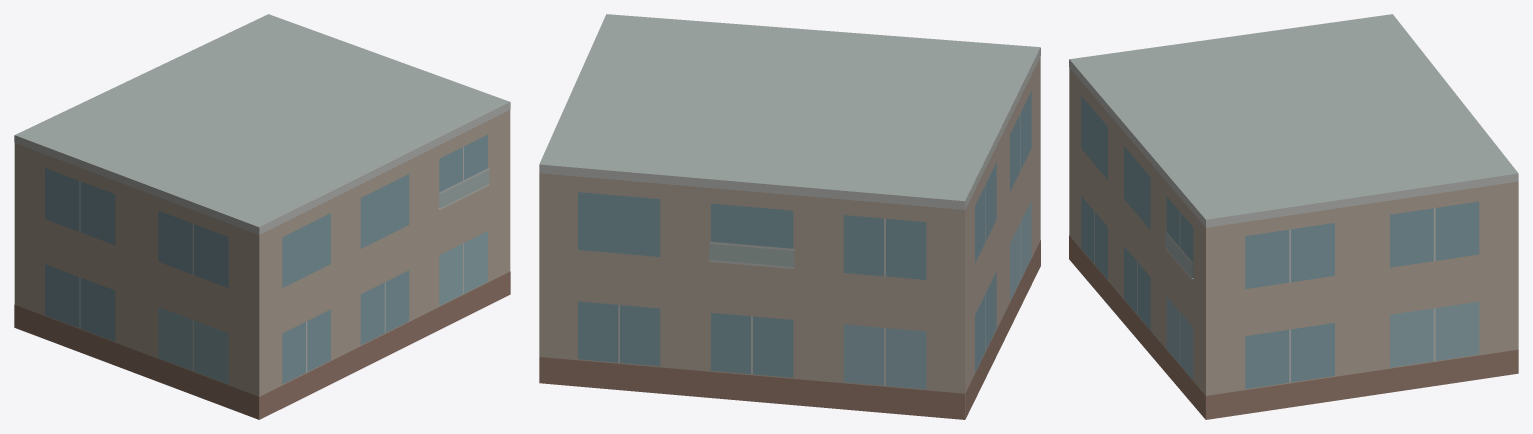
File: survey-upis-32691455.glb
3 renders of one model, left to right at view 1: azimuth 30°, elevation 25°; view 2: azimuth 150°, elevation 25°; view 3: azimuth 270°, elevation 25°, orthographic. The views are drawn at different scales.
Parts seen in each view (by area): view 1: survey-upis-32691455.tmp; view 2: survey-upis-32691455.tmp; view 3: survey-upis-32691455.tmp.
Boxes of the visible parts, x1,y1,x2,y2 form: survey-upis-32691455.tmp: (14,14,510,419); survey-upis-32691455.tmp: (539,14,1040,419); survey-upis-32691455.tmp: (1069,14,1518,419).
Bounding box in the file's own units: 13.47 × 6.1 × 12.43.
